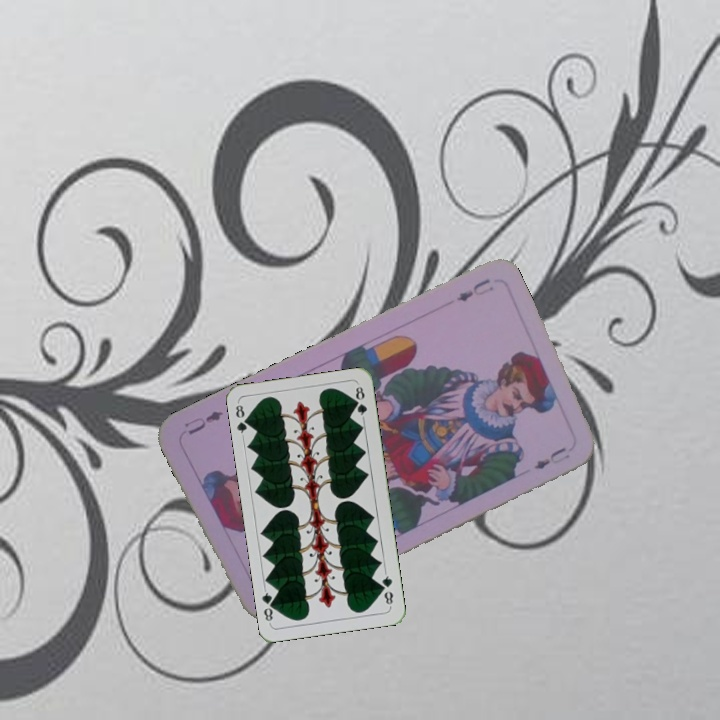EU: (452, 274, 497, 305)
G8: (231, 401, 253, 440), (377, 569, 396, 609)
